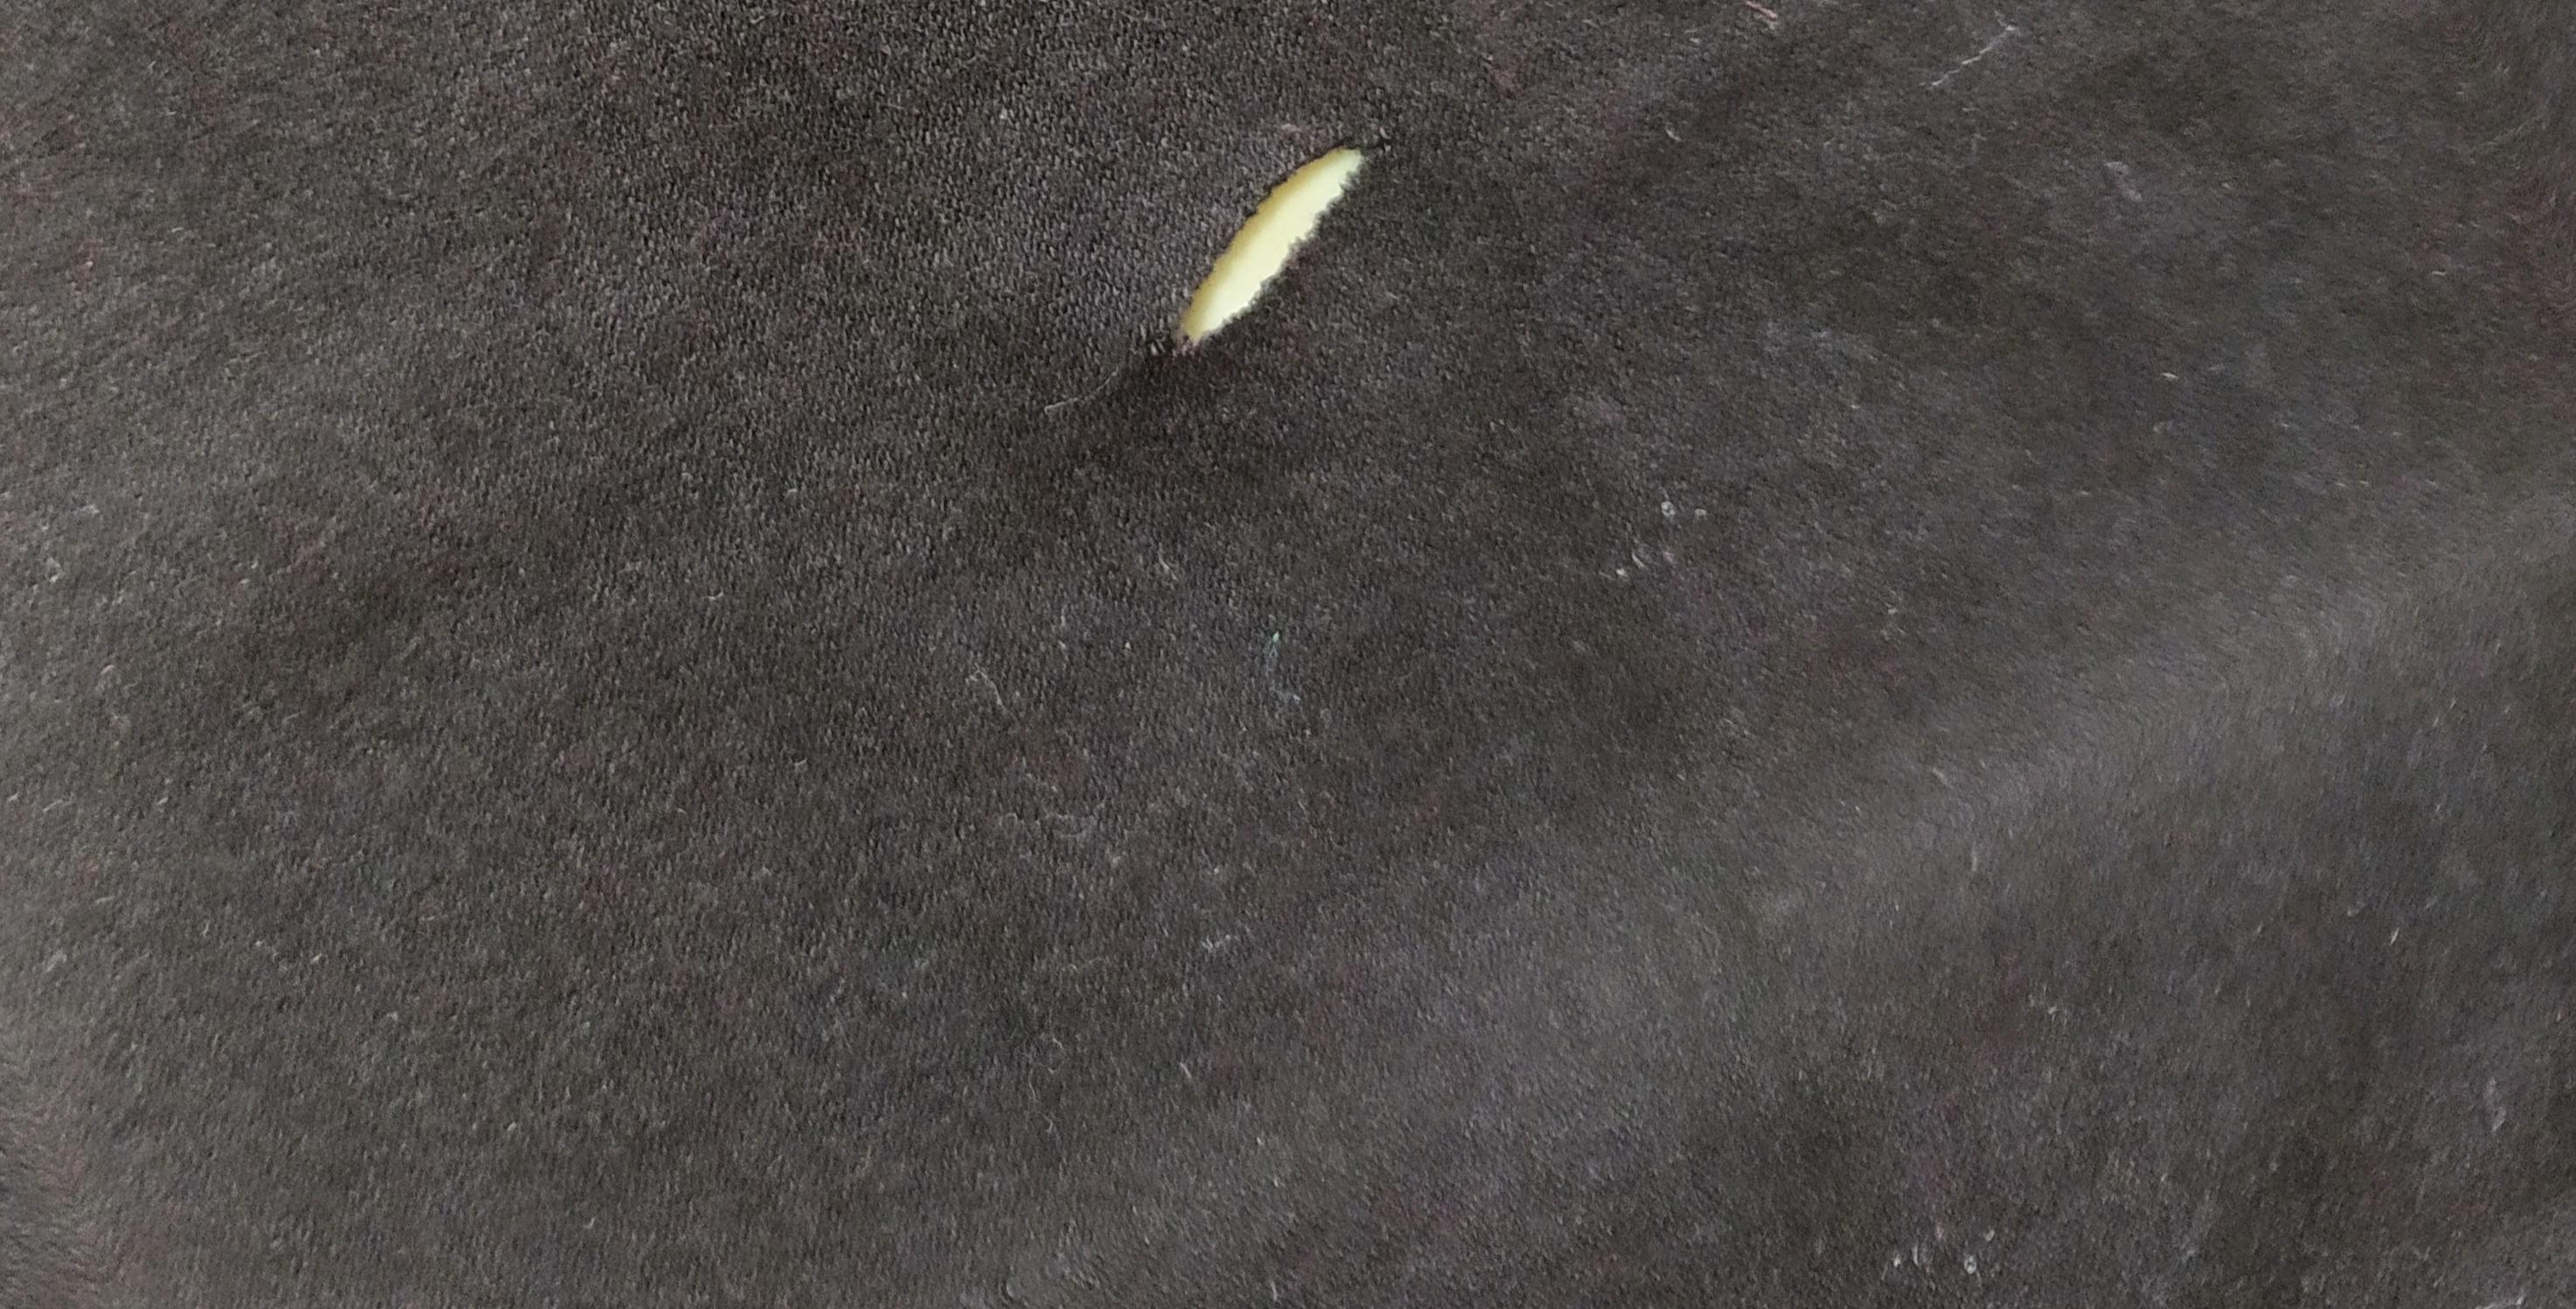hole: (1156, 107, 1385, 394)
